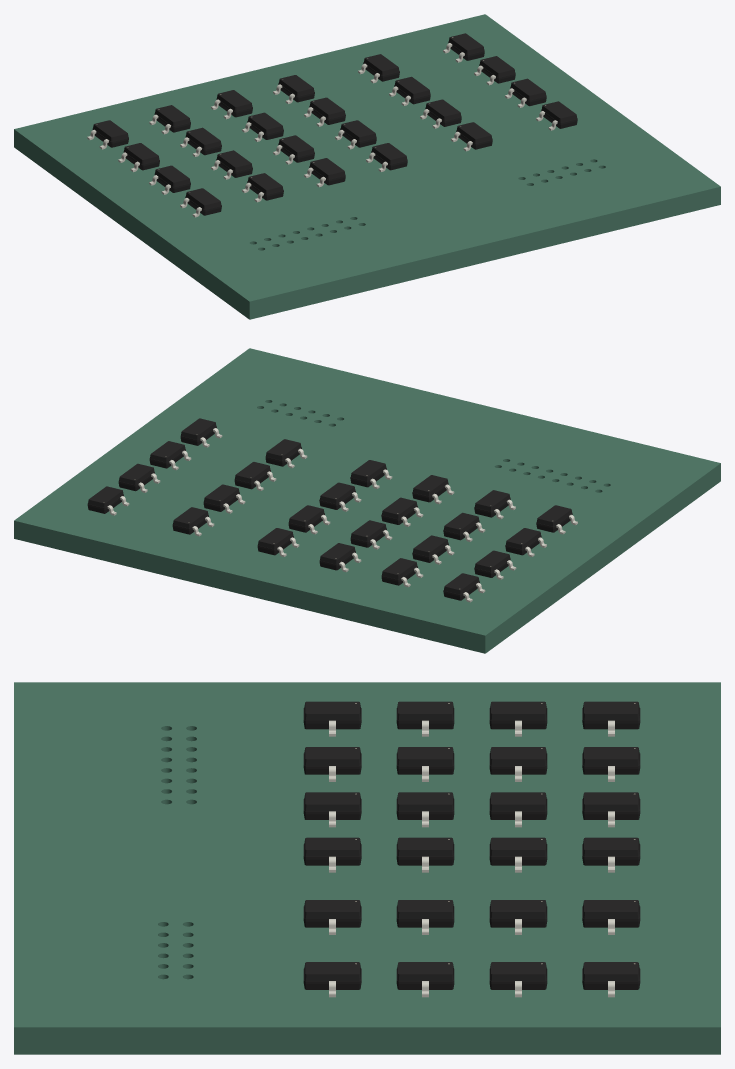
The model's file is flags copy.glb.
The picture shows the model from 3 angles, top to bottom: view 1: azimuth 30°, elevation 25°; view 2: azimuth 150°, elevation 25°; view 3: azimuth 270°, elevation 25°; orthographic projection. The views are drawn at different scales.
Parts seen in each view (by area): view 1: =>[0:1:1:3], Q201, Q204, Q301, Q401, Q203, Q215, Q209, Q205, Q214, Q404, Q208 (+13 smaller); view 2: =>[0:1:1:3], Q202, Q214, Q304, Q402, Q205, Q211, Q207, Q201, Q216, Q301, Q401 (+13 smaller); view 3: =>[0:1:1:3], Q203, Q214, Q216, Q213, Q215, Q202, Q201, Q204, Q212, Q301, Q210 (+13 smaller).
Part boxes in pixels (bbox=[...]): =>[0:1:1:3]: bbox=[14, 14, 720, 319]; Q201: bbox=[87, 120, 128, 149]; Q204: bbox=[180, 188, 221, 217]; Q301: bbox=[443, 33, 484, 62]; Q401: bbox=[358, 54, 399, 83]; Q203: bbox=[149, 165, 190, 194]; Q215: bbox=[335, 120, 376, 149]; Q209: bbox=[211, 90, 252, 119]; Q205: bbox=[149, 105, 190, 134]; Q214: bbox=[304, 97, 345, 126]; Q404: bbox=[451, 122, 492, 151]; Q208: bbox=[242, 173, 283, 202]; =>[0:1:1:3]: bbox=[14, 348, 720, 653]; Q202: bbox=[474, 550, 516, 579]; Q214: bbox=[288, 505, 330, 534]; Q304: bbox=[180, 418, 222, 447]; Q402: bbox=[203, 484, 245, 513]; Q205: bbox=[381, 558, 423, 587]; Q211: bbox=[381, 497, 423, 526]; Q207: bbox=[443, 512, 485, 541]; Q201: bbox=[443, 573, 485, 602]; Q216: bbox=[350, 460, 392, 488]; Q301: bbox=[87, 486, 129, 515]; Q401: bbox=[172, 507, 214, 536]; =>[0:1:1:3]: bbox=[14, 682, 720, 1054]; Q203: bbox=[396, 701, 454, 736]; Q214: bbox=[489, 837, 547, 872]; Q216: bbox=[303, 837, 361, 872]; Q213: bbox=[582, 837, 640, 872]; Q215: bbox=[396, 837, 454, 872]; Q202: bbox=[489, 701, 547, 736]; Q201: bbox=[582, 701, 640, 736]; Q204: bbox=[303, 701, 361, 736]; Q212: bbox=[303, 792, 361, 827]; Q301: bbox=[582, 962, 640, 997]; Q210: bbox=[489, 792, 547, 827].
Bounding box in the file's own units: 0.041 × 0.00255 × 0.0355.
